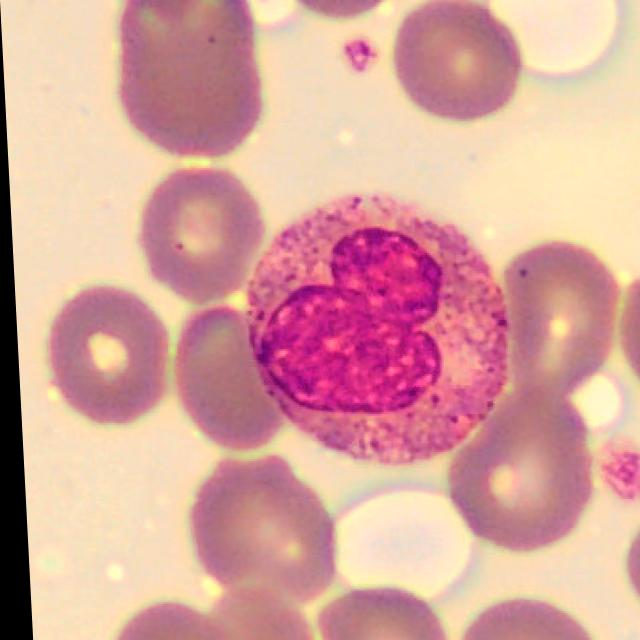Neutrofilo segmentado: (241, 195, 504, 466)
